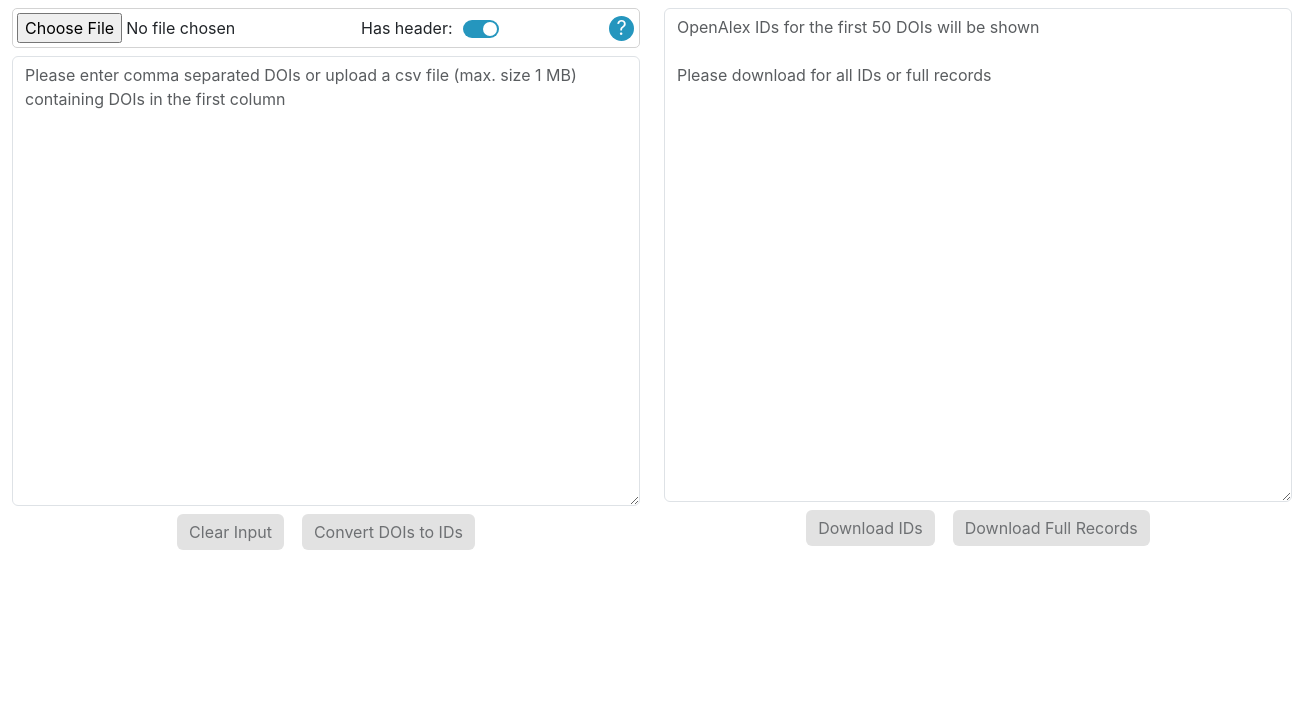
Scenario: Home Component › disables "Convert DOIs to IDs" button when DOIs are missing
expect the button "Convert DOIs to IDs" is disabled: met, box [302,514,475,550]
Note: Enter DOIs
Replace the text in the text box with placeholder "Please enter comma separated DOIs or upload a csv file (max. size 1 MB) containing DOIs in the first column" with "https://doi.org/10.48550/ARXIV.2406.15154, 10.7717/peerj.4375, https://doi.org/10.5210/fm.v15i7.2874" at [326, 281], box [12,56,640,506]
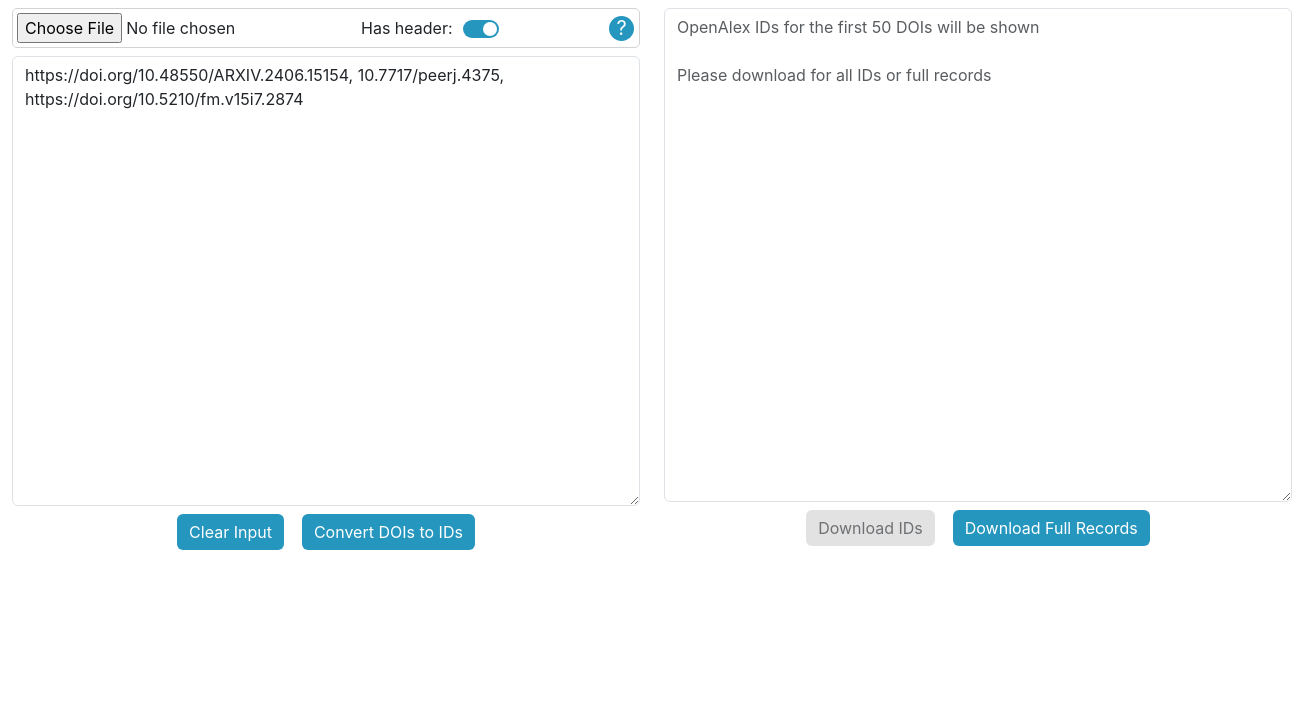
expect the button "Convert DOIs to IDs" is enabled: met, box [302,514,475,550]
